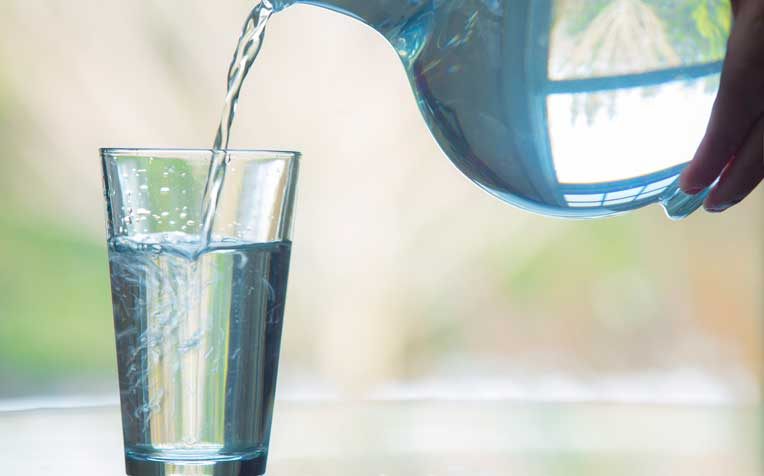glass of water: (103, 144, 274, 463)
